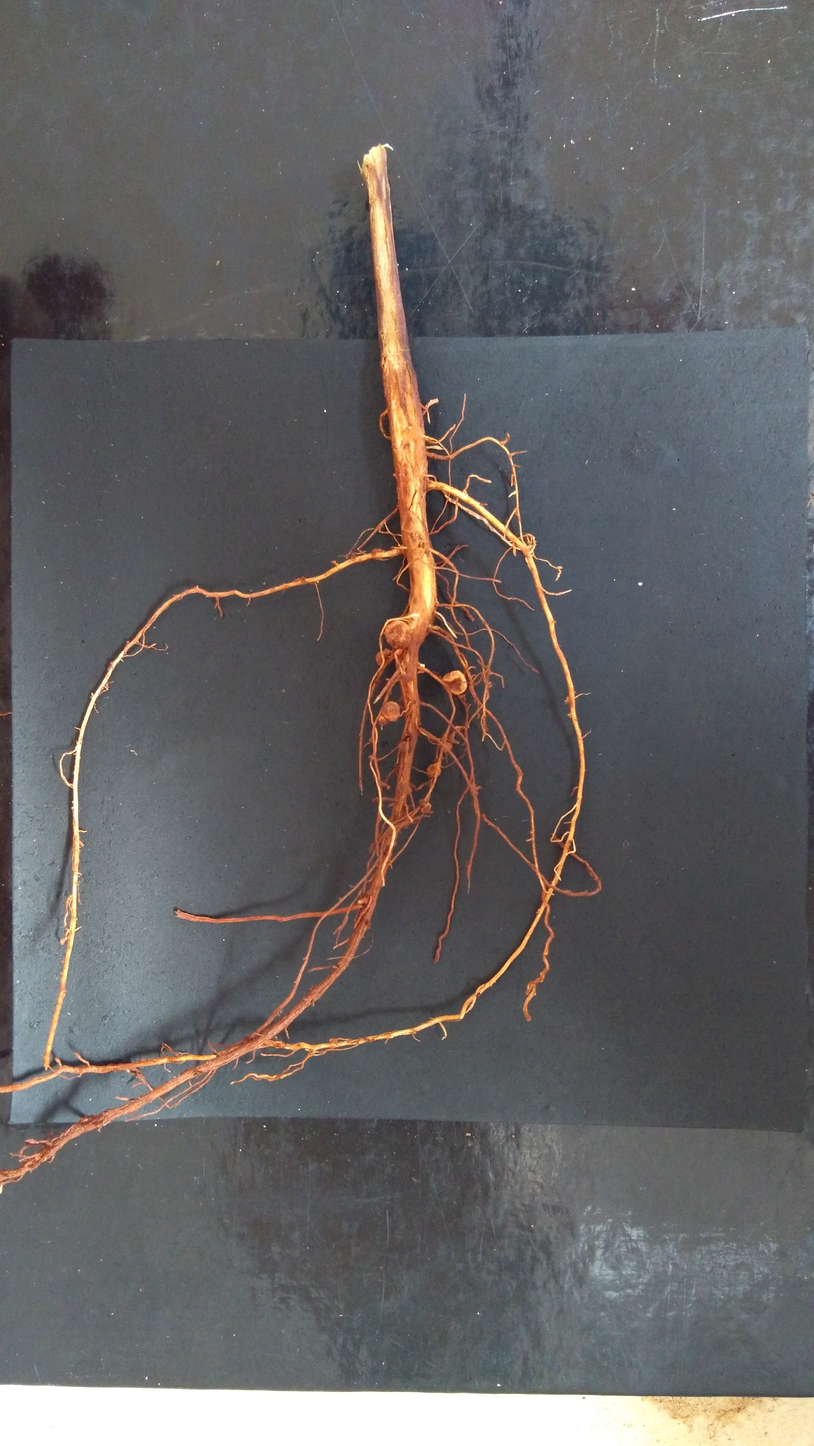nodule: (382, 619, 414, 652), (441, 669, 468, 695), (380, 701, 401, 722), (374, 648, 392, 667), (425, 763, 441, 779), (439, 740, 453, 754), (420, 802, 433, 814), (378, 715, 389, 726)
